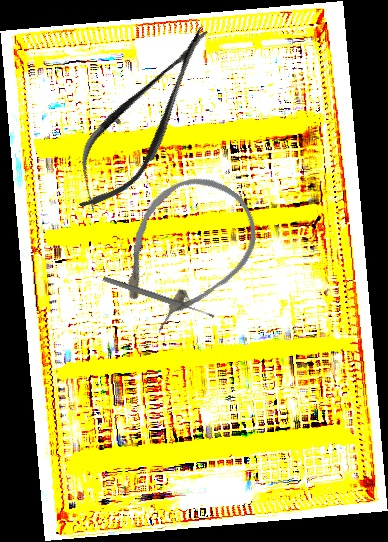Cannula: (92, 156, 276, 350)
Micro Scissor: (54, 12, 233, 225)
Surgical Spoon: (102, 275, 215, 320)
